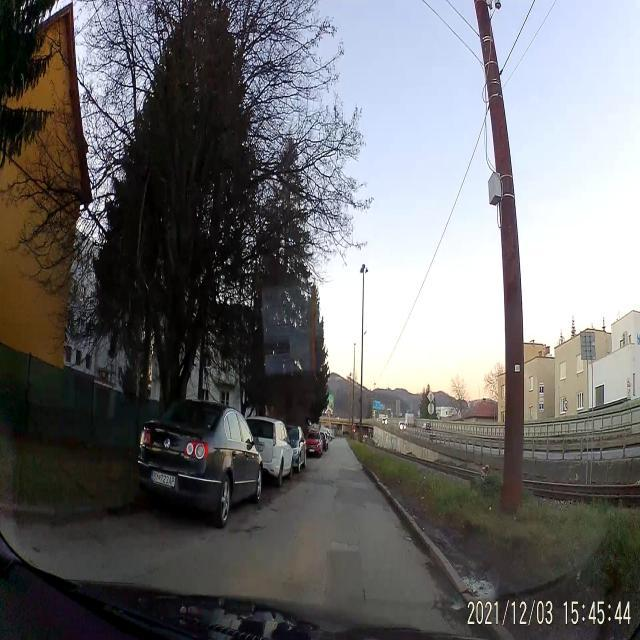Pothole: (244, 522, 264, 538)
